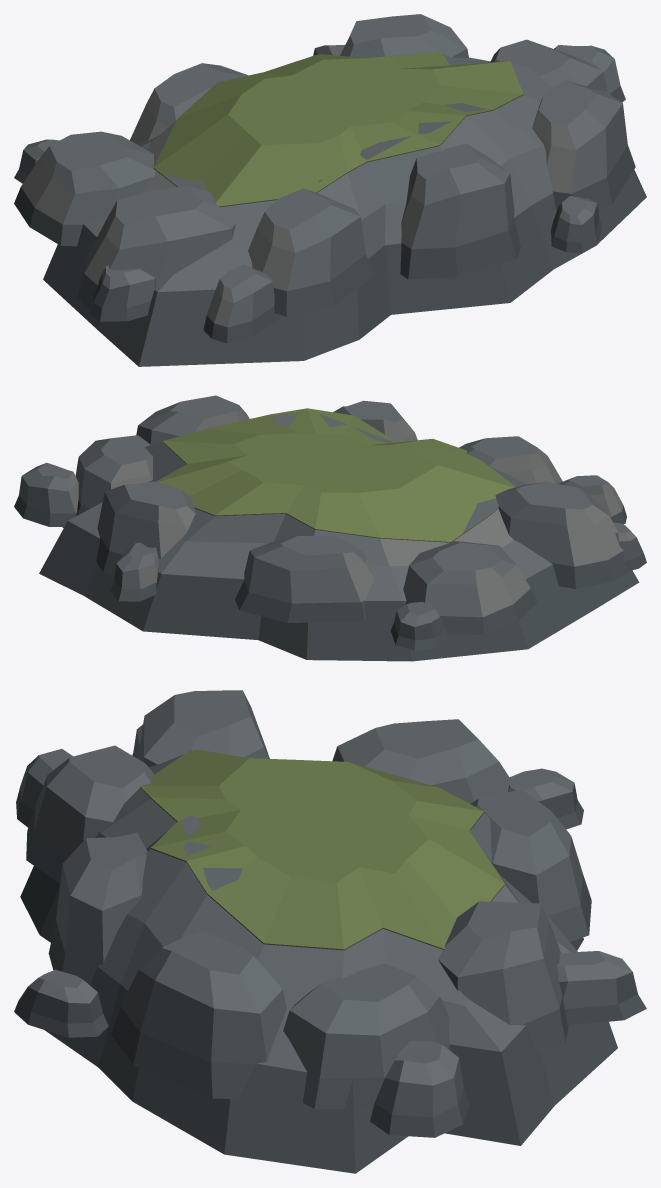
The model's file is island_c.glb.
The picture shows the model from 3 angles, top to bottom: view 1: azimuth 30°, elevation 25°; view 2: azimuth 150°, elevation 25°; view 3: azimuth 270°, elevation 25°; orthographic projection. The views are drawn at different scales.
Visible parts, largest first — view 1: island_c_Coast blue grey bedrock, island_c_Coast short olive grass; view 2: island_c_Coast blue grey bedrock, island_c_Coast short olive grass; view 3: island_c_Coast blue grey bedrock, island_c_Coast short olive grass.
Part boxes in pixels (x1=…): island_c_Coast blue grey bedrock: x1=14, y1=14, x2=646, y2=366; island_c_Coast short olive grass: x1=153, y1=52, x2=523, y2=207; island_c_Coast blue grey bedrock: x1=14, y1=395, x2=646, y2=661; island_c_Coast short olive grass: x1=156, y1=408, x2=515, y2=542; island_c_Coast blue grey bedrock: x1=14, y1=690, x2=646, y2=1173; island_c_Coast short olive grass: x1=140, y1=749, x2=504, y2=950.
Bounding box in the file's own units: 111 × 23.78 × 78.06.
